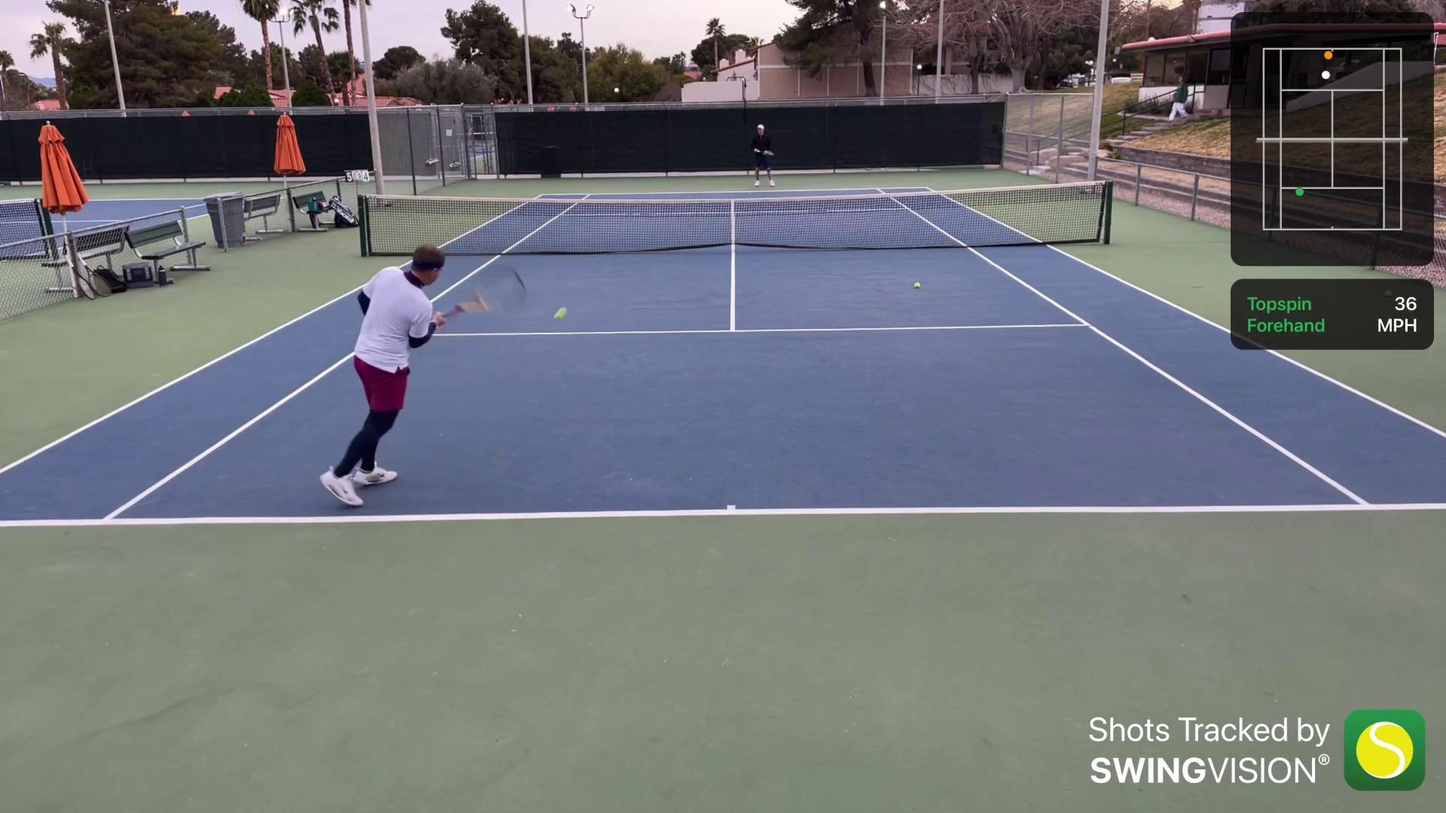ball: (555, 308, 565, 318), (914, 281, 921, 288)
